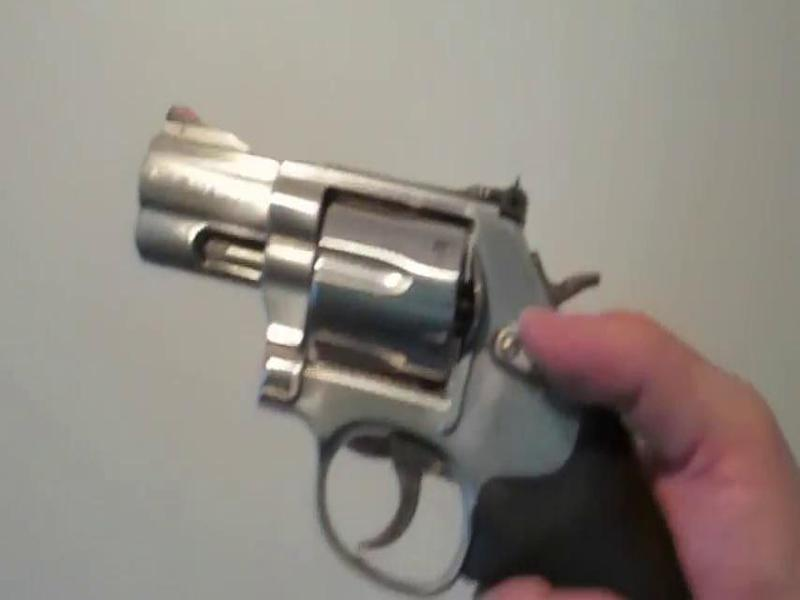Revolver: (127, 73, 716, 600)
